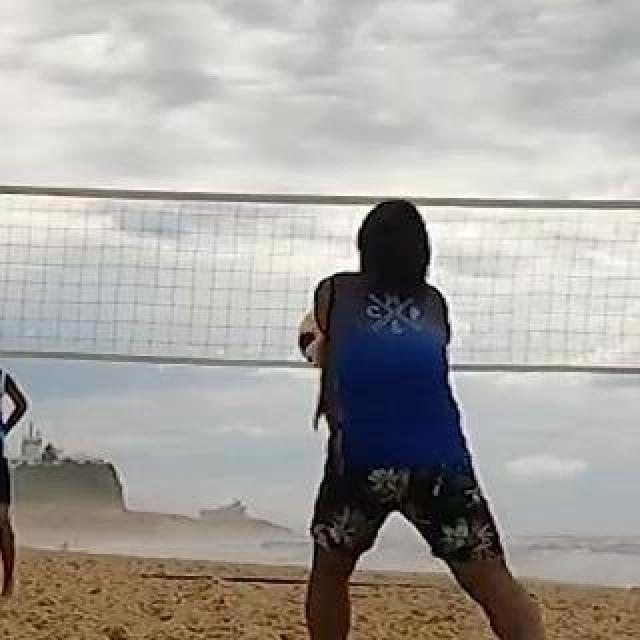volleyball: (298, 305, 356, 365)
